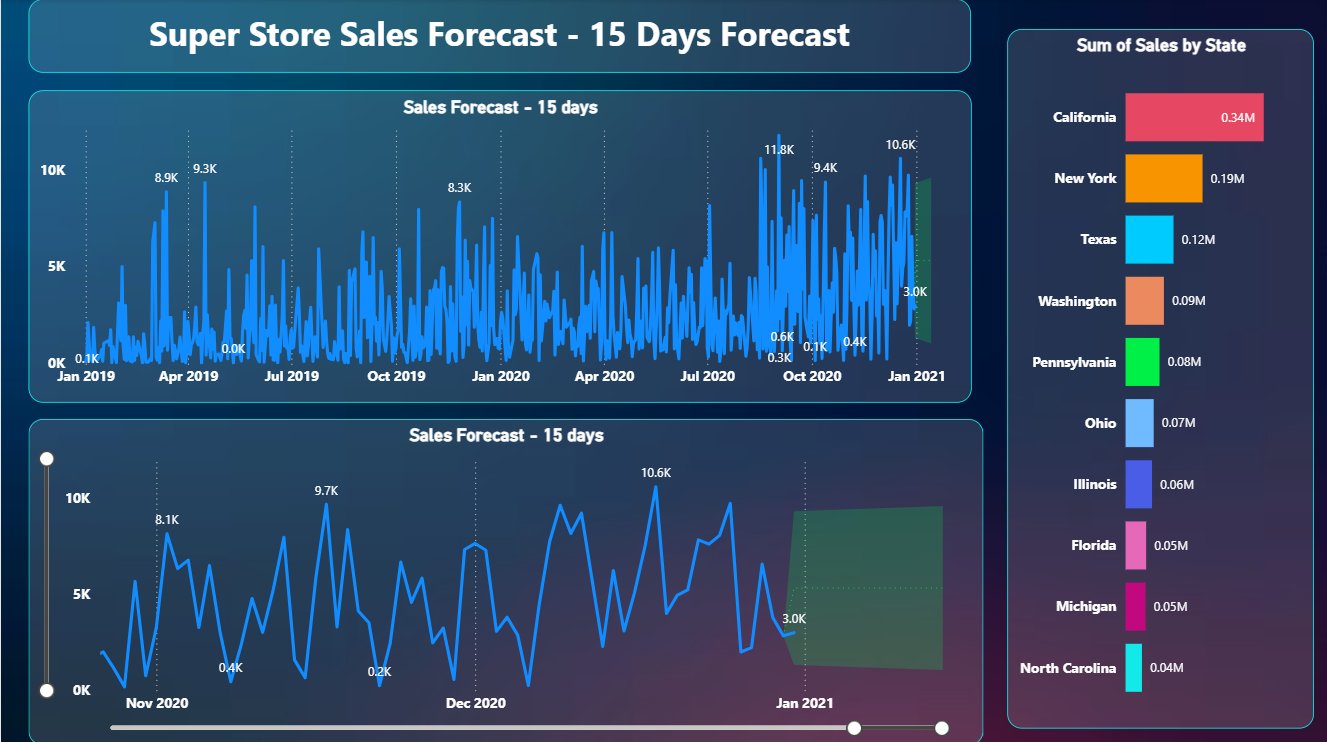

What the dashboard file says about the page in this screenshot:
{"tool":"powerbi","page":{"name":"Page 2","canvas":[1280,720],"ordinal":1},"visuals":[{"type":"lineChart","title":"Sales Forecast - 15 days","fields":{"Y":["Sum(SuperStore_Sales_Dataset.Sales)"],"Category":["SuperStore_Sales_Dataset.Order Date"]},"box":[26.2,405,921.2,315],"z":0},{"type":"lineChart","title":"Sales Forecast - 15 days","fields":{"Y":["Sum(SuperStore_Sales_Dataset.Sales)"],"Category":["SuperStore_Sales_Dataset.Order Date"]},"box":[26.2,87.5,910,301.2],"z":1000},{"type":"clusteredBarChart","fields":{"Category":["SuperStore_Sales_Dataset.State"],"Y":["Sum(SuperStore_Sales_Dataset.Sales)"]},"box":[971.2,28.8,296.2,675],"z":1001},{"type":"textbox","box":[26.2,13.8,910,60],"z":1002}]}

Visuals, with their boxes in screenshot pixels (x1, y1, x2, y2), scaled from the page's 1280x720 canvas onto the 1327x742 screenshot:
"Sales Forecast - 15 days" lineChart: 27,417,982,741
"Sales Forecast - 15 days" lineChart: 27,90,971,401
clusteredBarChart - SuperStore_Sales_Dataset.State x Sum(SuperStore_Sales_Dataset.Sales): 1007,30,1314,725
textbox: 27,14,971,76
